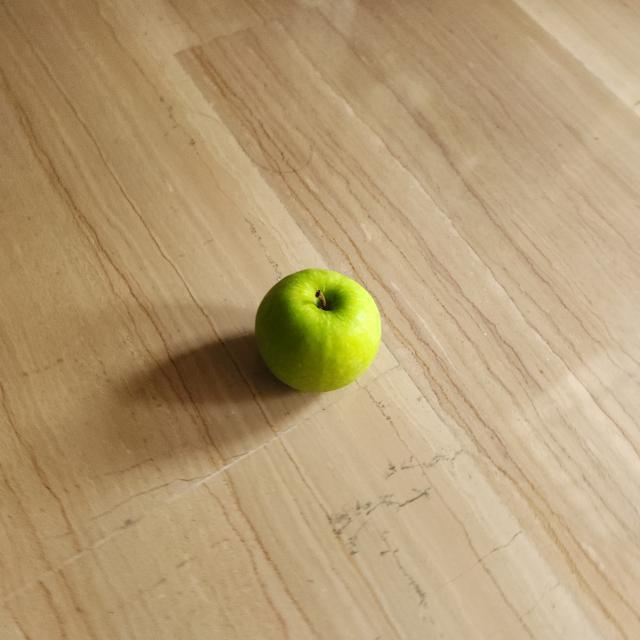apple: (250, 261, 386, 409)
